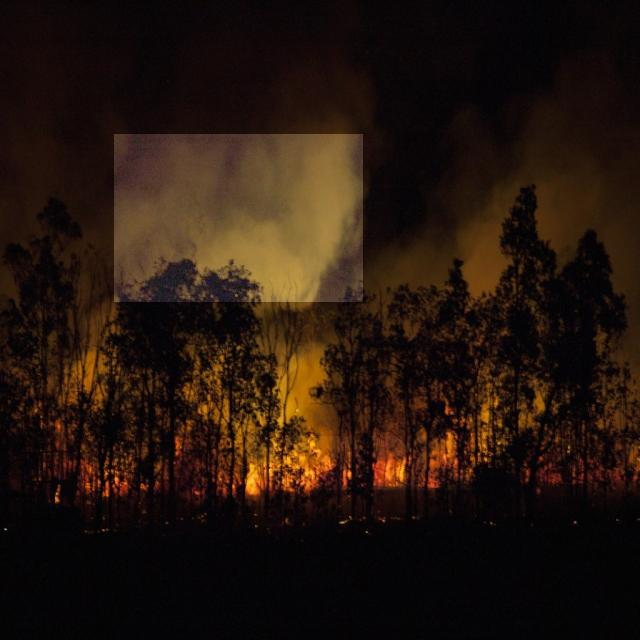Fire: (247, 436, 466, 491)
Smoke: (114, 134, 363, 302)
